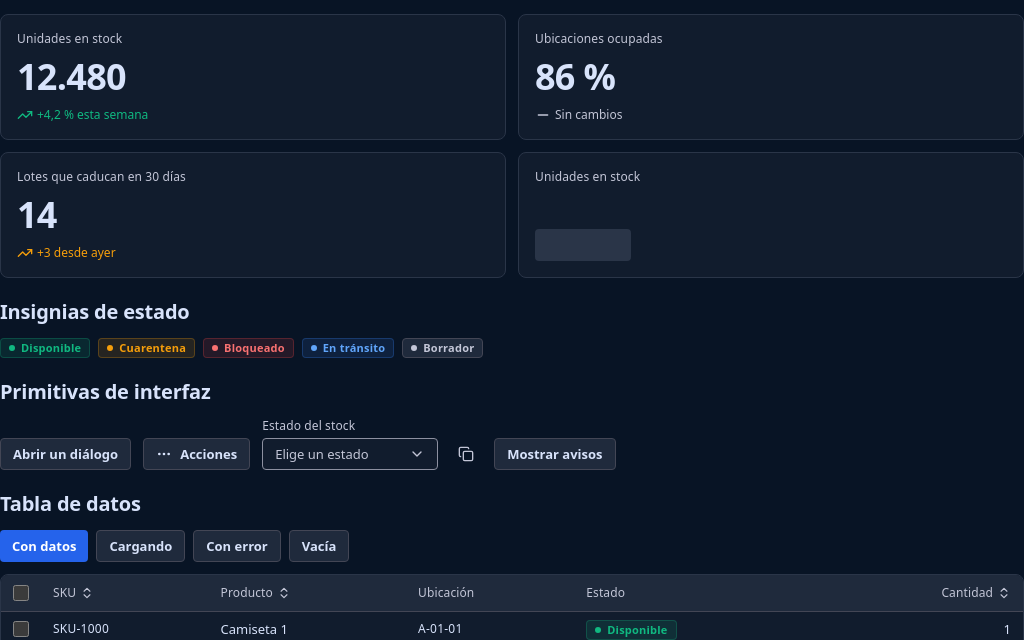
Test: DesignGalleryPage › switches between the states of the table
Click the button "Con error" at (237, 546), box [193,530,281,562]
(page scrolled)
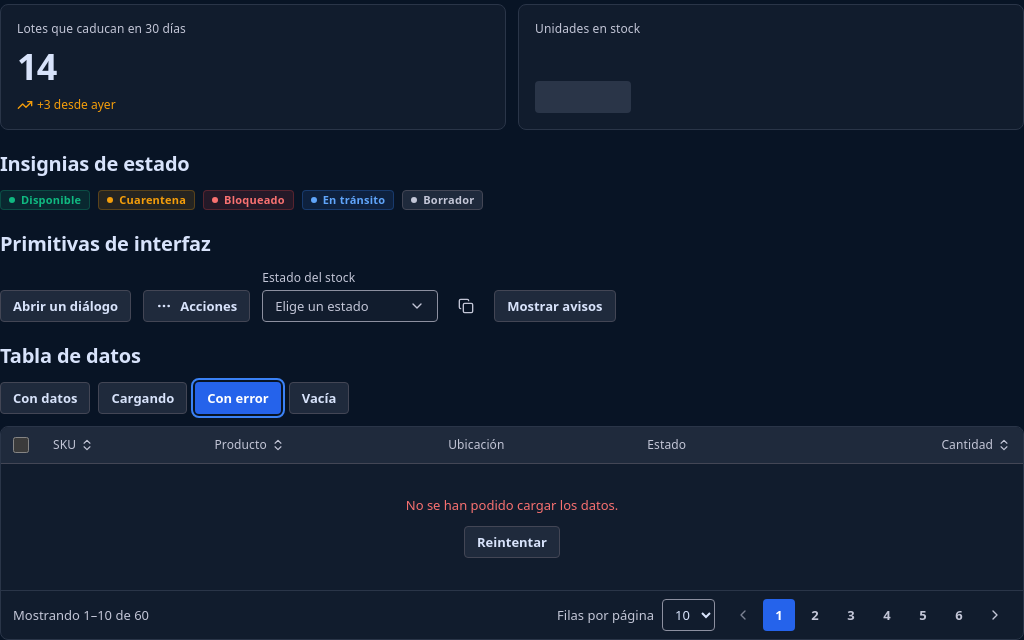
Now the message "No se han podido cargar los datos. Reintentar" is shown, box [406,496,618,558]
Click the button "Reintentar" at (512, 542), box [464,526,560,558]
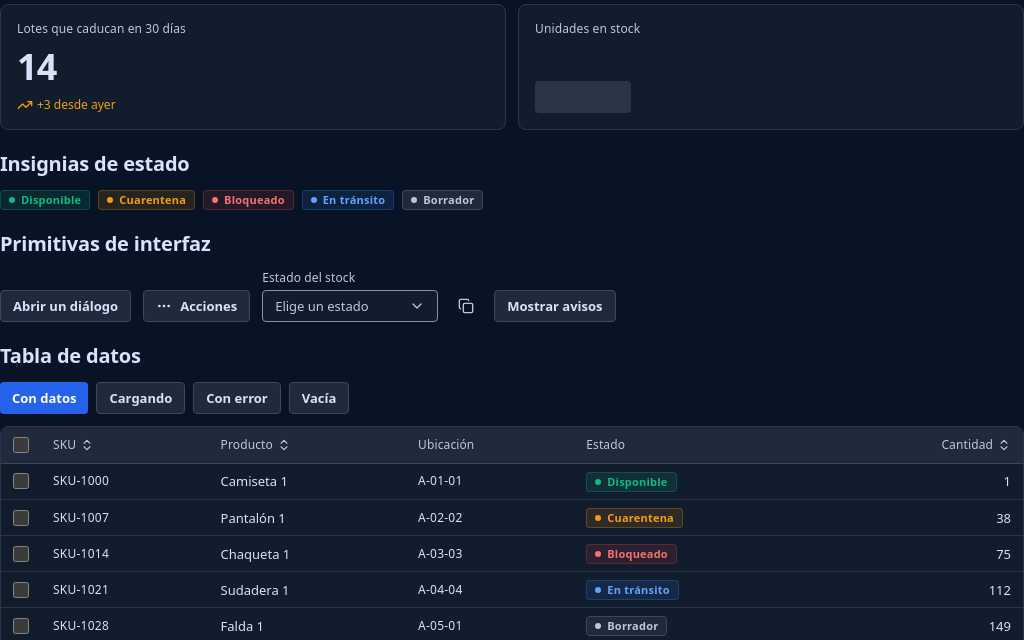
Click the button "Vacía" at (319, 398), box [289,382,349,414]
(page scrolled)
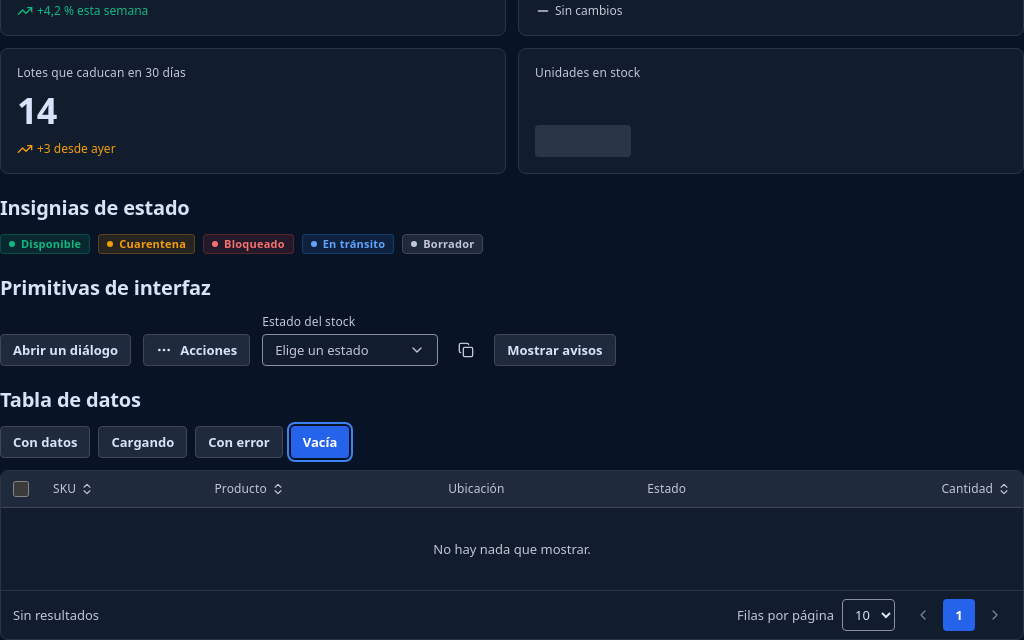
Now the text "No hay nada que mostrar." is shown, box [1,508,1023,590]
Now the text "Sin resultados" is shown, box [13,606,99,624]
